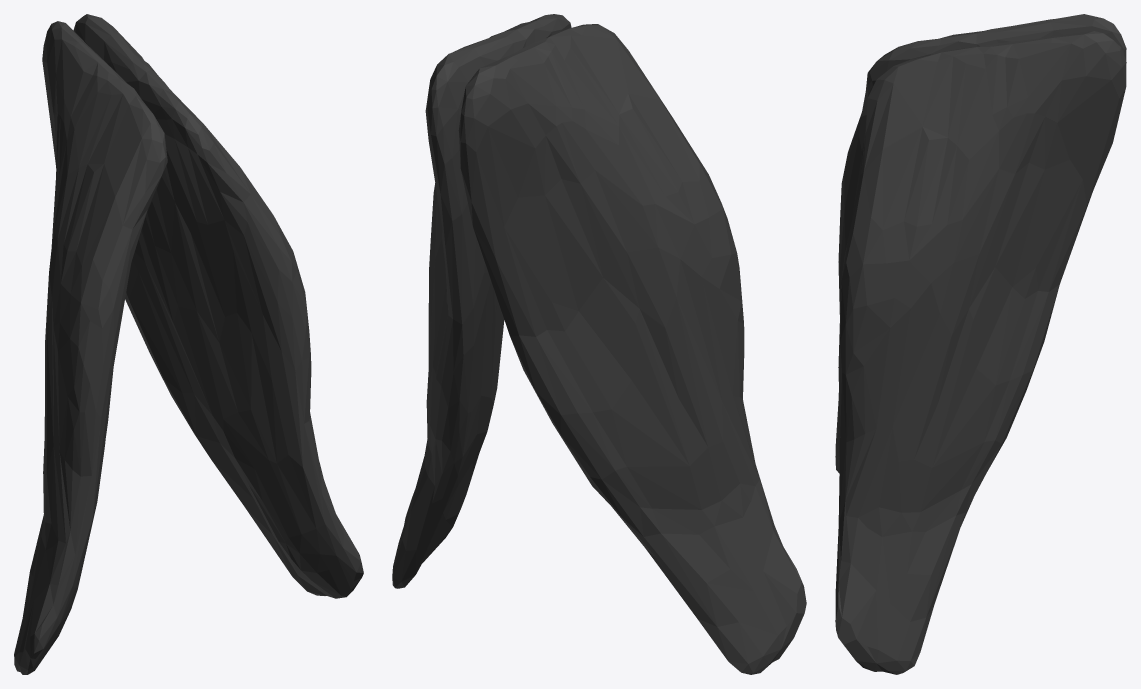
The model's file is m_gracilis.glb.
The picture shows the model from 3 angles, left to right: view 1: azimuth 30°, elevation 25°; view 2: azimuth 150°, elevation 25°; view 3: azimuth 270°, elevation 25°; orthographic projection. The views are drawn at different scales.
Parts seen in each view (by area): view 1: m_gracilis; view 2: m_gracilis; view 3: m_gracilis.
Part boxes in pixels (box(x1,y1,x2,y2)): m_gracilis: box(14, 14, 363, 674); m_gracilis: box(392, 14, 806, 674); m_gracilis: box(835, 14, 1126, 674).
Size of the model in its own units: 0.00469 by 0.00738 by 0.0034.
Materials: 1 (1 with a texture image).
